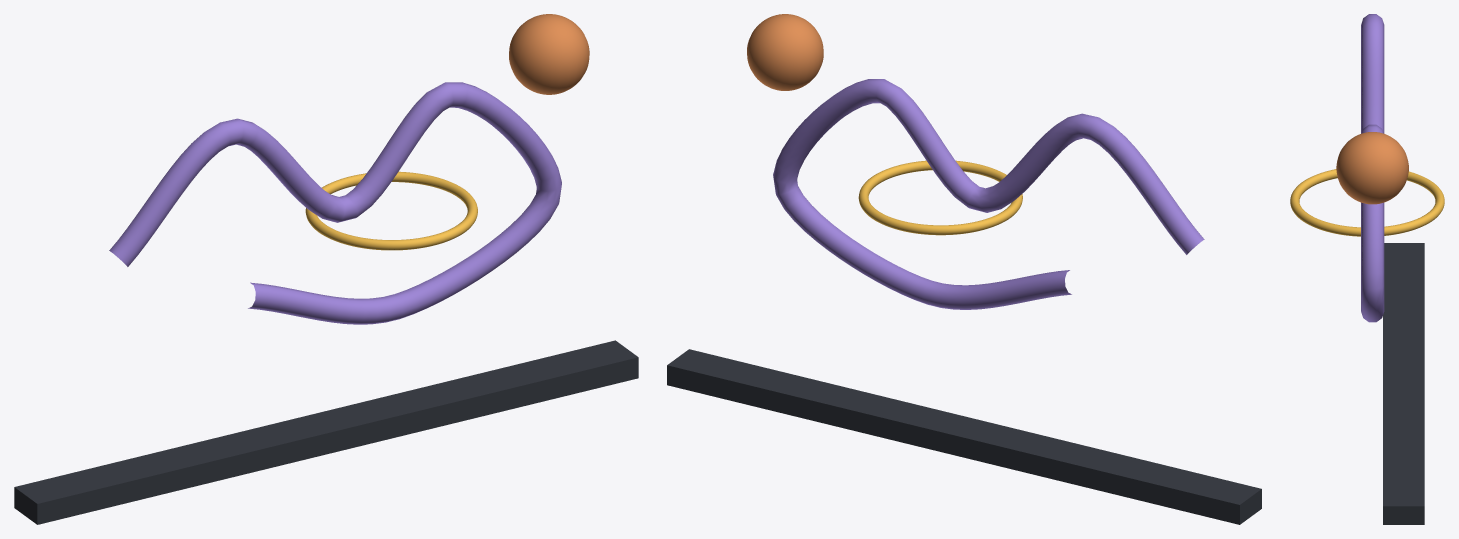
File: chem-biolink-protein-folding.glb
3 renders of one model, left to right at view 1: azimuth 30°, elevation 25°; view 2: azimuth 150°, elevation 25°; view 3: azimuth 270°, elevation 25°, orthographic. The views are drawn at different scales.
Visible parts, largest first — view 1: biochemistry-bench, folded-protein-chain-path, condition-zone-heat-ph, fold-pocket-active-region; view 2: biochemistry-bench, folded-protein-chain-path, condition-zone-heat-ph, fold-pocket-active-region; view 3: biochemistry-bench, folded-protein-chain-path, condition-zone-heat-ph, fold-pocket-active-region.
Part boxes in pixels (x1,y1,x2,y2): biochemistry-bench: [14, 340, 638, 524]; folded-protein-chain-path: [109, 82, 561, 324]; condition-zone-heat-ph: [509, 14, 589, 94]; fold-pocket-active-region: [305, 171, 477, 250]; biochemistry-bench: [667, 349, 1261, 524]; folded-protein-chain-path: [773, 79, 1204, 309]; condition-zone-heat-ph: [747, 14, 823, 90]; fold-pocket-active-region: [858, 160, 1022, 235]; biochemistry-bench: [1383, 243, 1424, 524]; folded-protein-chain-path: [1361, 14, 1384, 322]; condition-zone-heat-ph: [1336, 132, 1408, 204]; fold-pocket-active-region: [1290, 169, 1444, 236].
Size of what is drawn, in the model's own units: 2.4 by 1.48 by 0.596.
